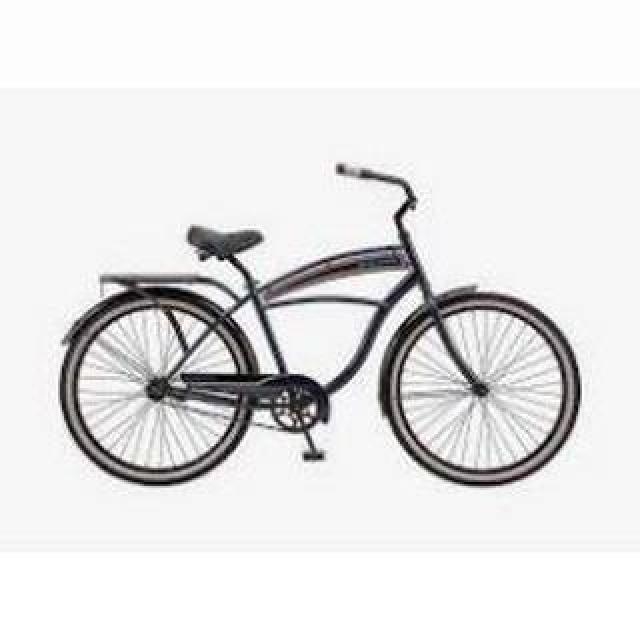Person: (59, 151, 583, 491)
